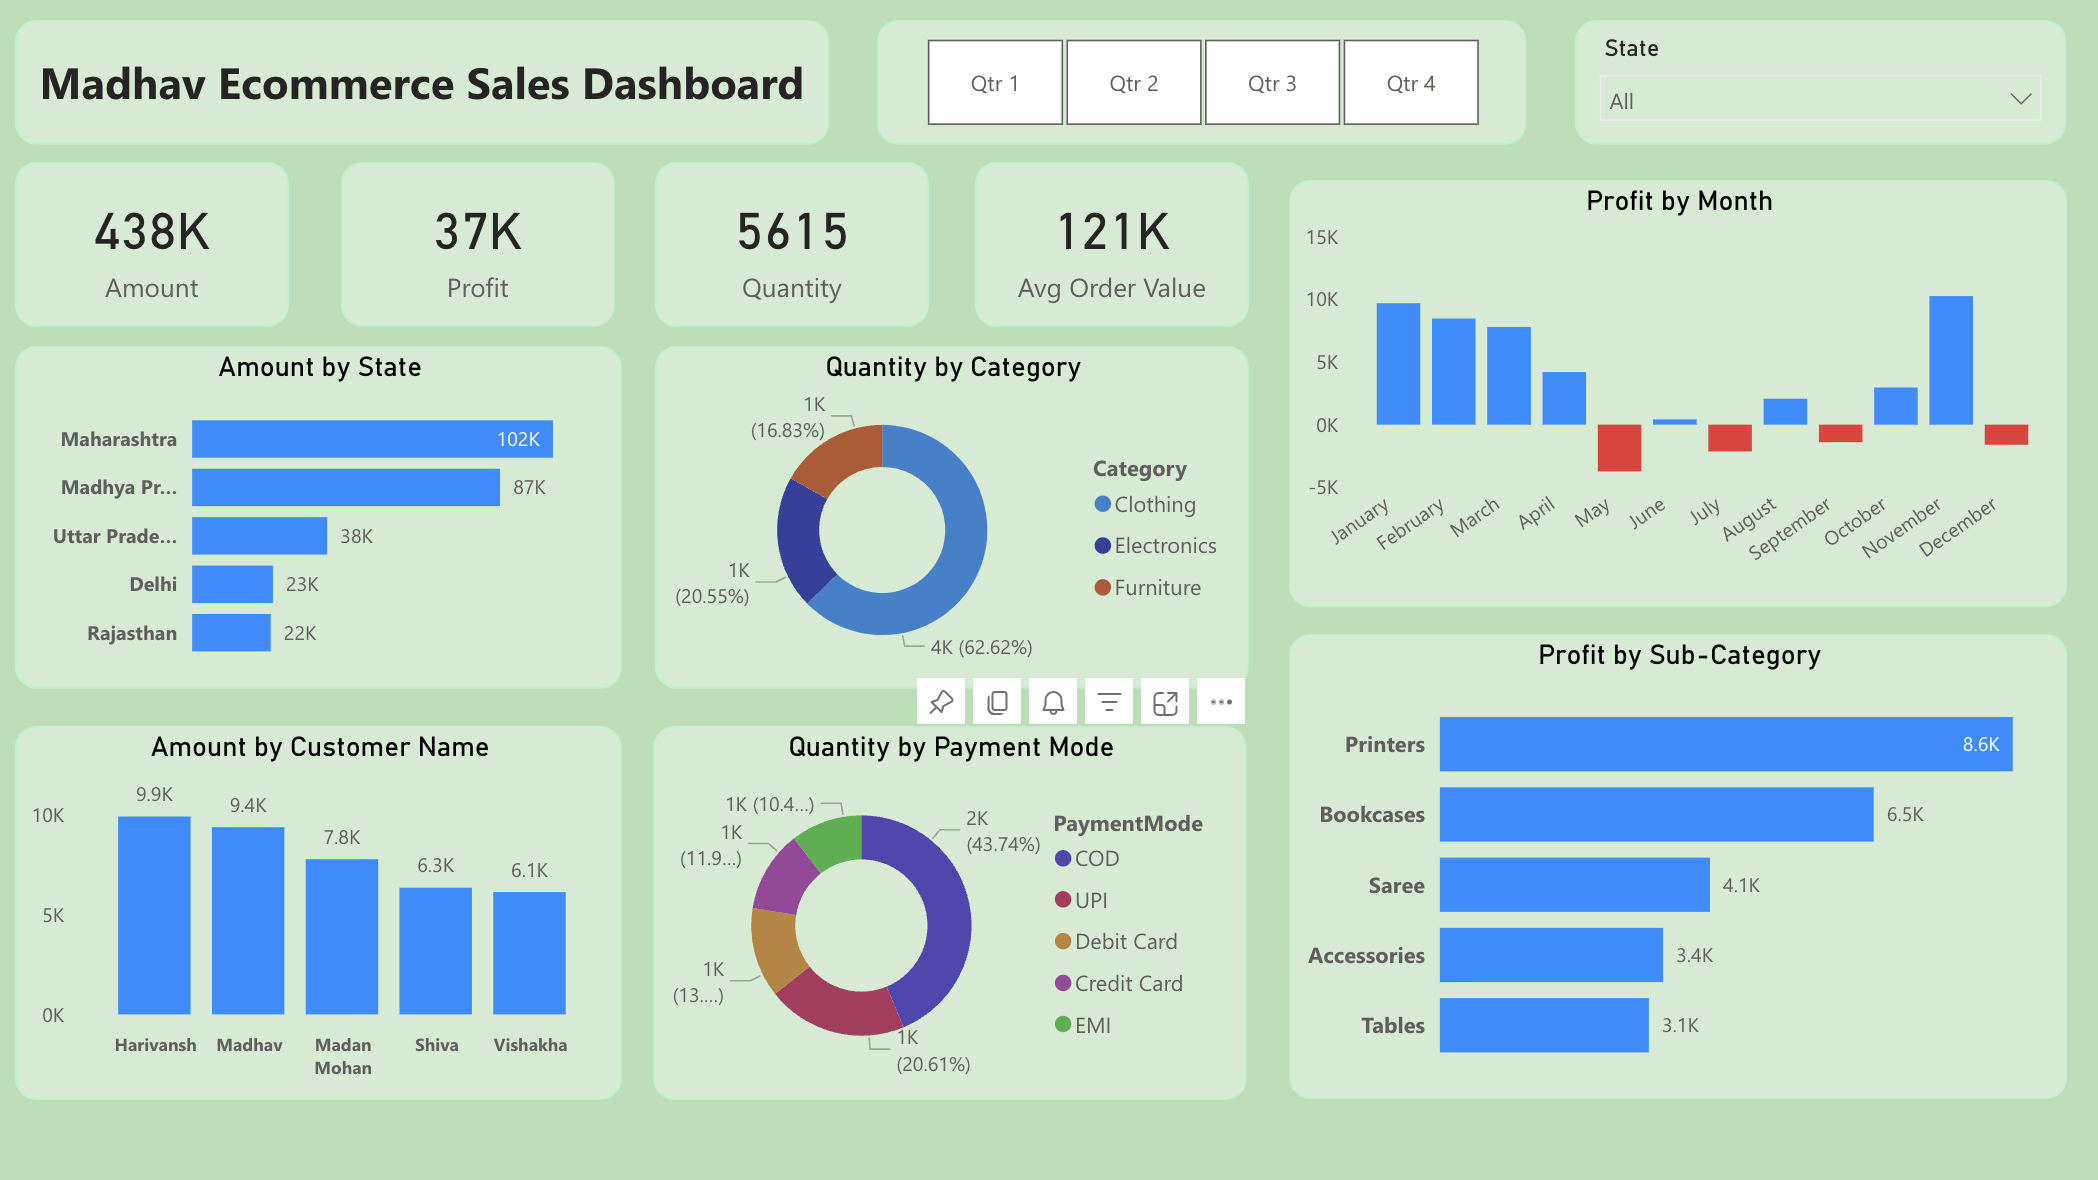

The page's visual inventory and layout, read from the dashboard file:
{"tool":"powerbi","page":{"name":"Page 1","canvas":[1280,720],"ordinal":0},"visuals":[{"type":"textbox","box":[9.5,12.2,496.4,75.9],"z":0},{"type":"columnChart","title":"Profit by Month","fields":{"Y":["Details.Profit"],"Category":["Orders.Order Date.Variation.Date Hierarchy.Month"]},"box":[786.6,109.9,474.7,260.4],"z":1000},{"type":"barChart","title":"Profit by Sub-Category","fields":{"Category":["Details.Sub-Category"],"Y":["Details.Profit"]},"box":[786.6,386.5,474.7,283.5],"z":2000},{"type":"donutChart","title":"Quantity by Category","fields":{"Category":["Details.Category"],"Y":["Details.Quantity"]},"box":[400.1,211.6,362.1,208.9],"z":3000},{"type":"donutChart","title":"Quantity by Payment Mode","fields":{"Category":["Details.PaymentMode"],"Y":["Details.Quantity"]},"box":[398.7,442.1,362.1,227.8],"z":4000},{"type":"card","fields":{"Values":["Details.Amount"]},"box":[9.5,99,166.8,100.4],"z":5000},{"type":"card","fields":{"Values":["Details.Profit"]},"box":[208.9,99,166.8,100.4],"z":6000},{"type":"card","fields":{"Values":["Details.Quantity"]},"box":[400.1,99,166.8,100.4],"z":7000},{"type":"card","fields":{"Values":["Details.AOV"]},"box":[595.4,99,166.8,100.4],"z":8000},{"type":"barChart","title":"Amount by State","fields":{"Y":["Details.Amount"],"Category":["Orders.State"]},"box":[9.5,211.6,370.2,208.9],"z":9000},{"type":"clusteredColumnChart","title":"Amount by Customer Name","fields":{"Category":["Orders.CustomerName"],"Y":["Details.Amount"]},"box":[9.5,442.1,370.2,227.8],"z":10000},{"type":"slicer","fields":{"Values":["Orders.Order Date.Variation.Date Hierarchy.Quarter"]},"box":[535.7,12.2,396,75.9],"z":11000},{"type":"slicer","fields":{"Values":["Orders.State"]},"box":[961.6,12.2,299.7,75.9],"z":12000}]}

Visuals, with their boxes in screenshot pixels (x1, y1, x2, y2), scaled from the page's 1280x720 canvas onto the 2098x1180 screenshot:
textbox: <region>16, 20, 829, 144</region>
"Profit by Month" columnChart: <region>1289, 180, 2067, 607</region>
"Profit by Sub-Category" barChart: <region>1289, 633, 2067, 1098</region>
"Quantity by Category" donutChart: <region>656, 347, 1249, 689</region>
"Quantity by Payment Mode" donutChart: <region>653, 725, 1247, 1098</region>
card - Details.Amount: <region>16, 162, 289, 327</region>
card - Details.Profit: <region>342, 162, 616, 327</region>
card - Details.Quantity: <region>656, 162, 929, 327</region>
card - Details.AOV: <region>976, 162, 1249, 327</region>
"Amount by State" barChart: <region>16, 347, 622, 689</region>
"Amount by Customer Name" clusteredColumnChart: <region>16, 725, 622, 1098</region>
slicer - Orders.Order Date.Variation.Date Hierarchy.Quarter: <region>878, 20, 1527, 144</region>
slicer - Orders.State: <region>1576, 20, 2067, 144</region>
